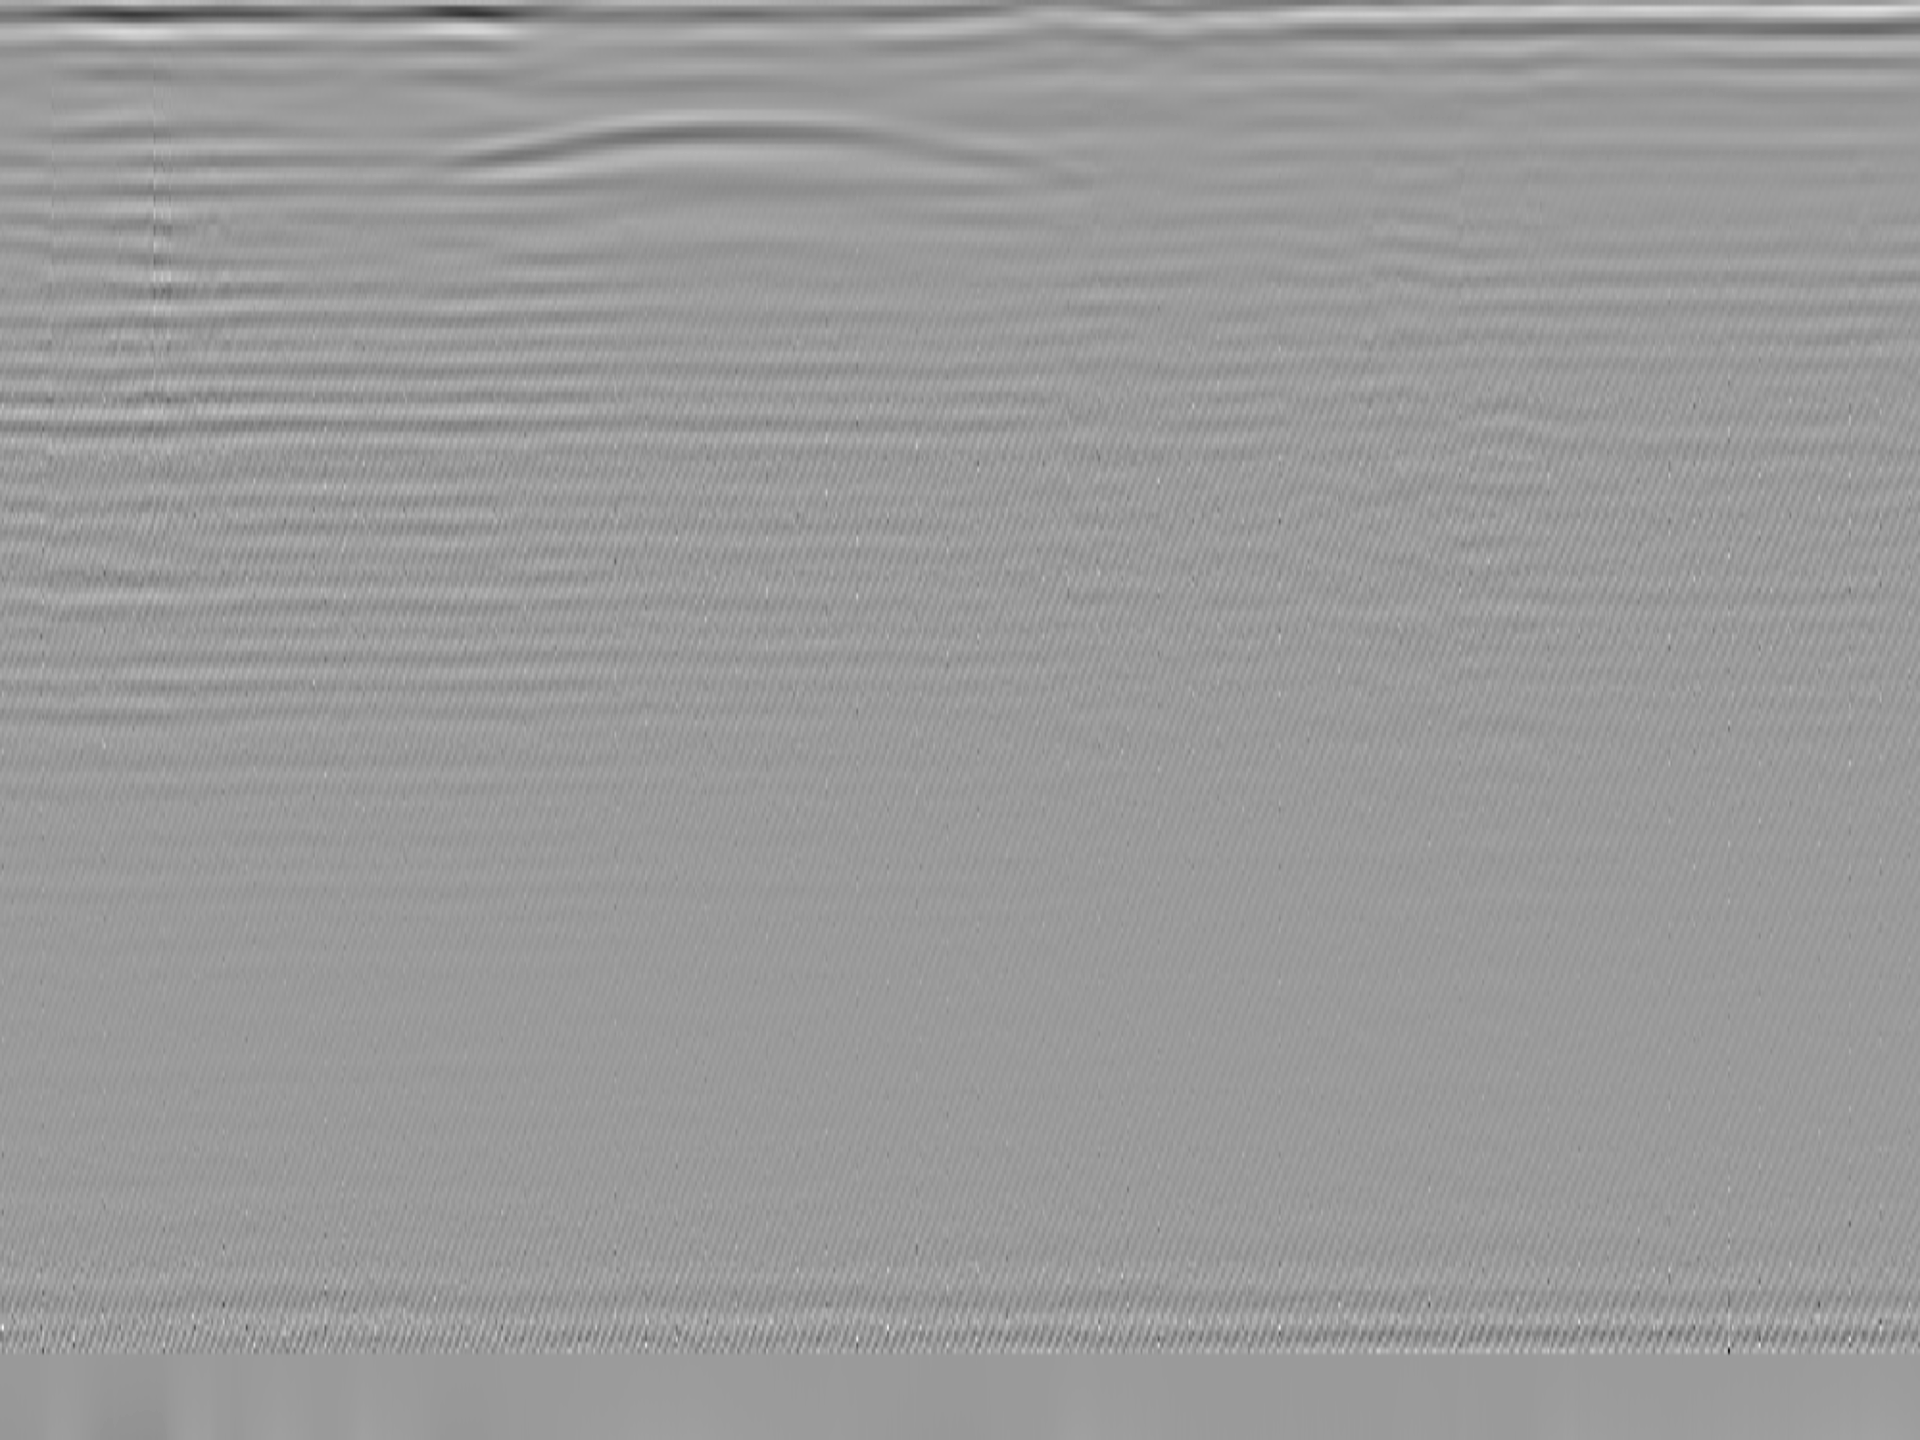Tunnel: (447, 109, 1066, 178)
